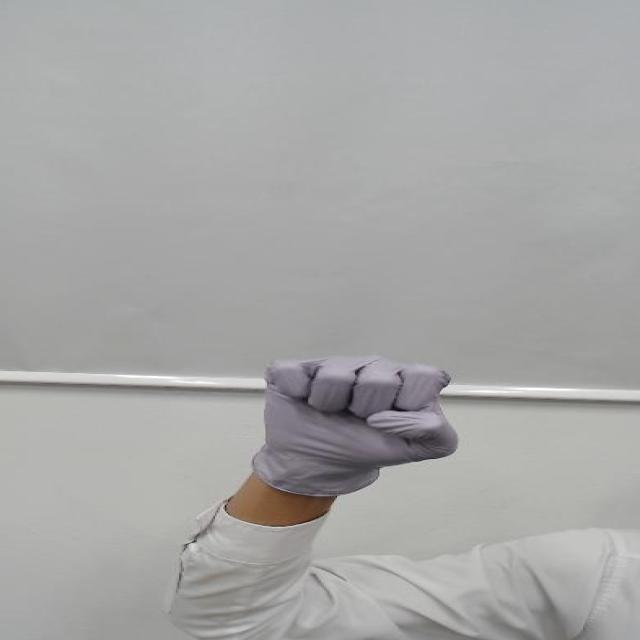glove: (203, 342, 514, 485)
